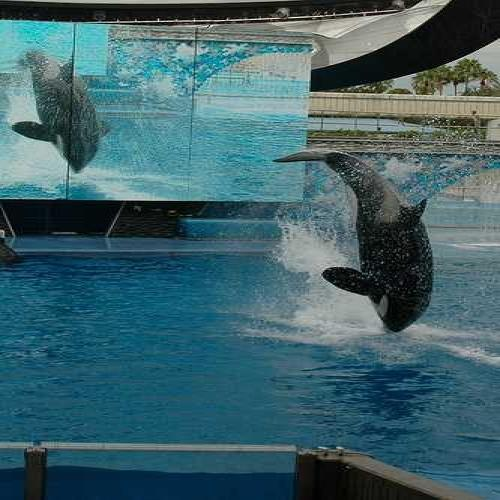killer_whale-endangered: (270, 142, 450, 343), (18, 37, 119, 186)
